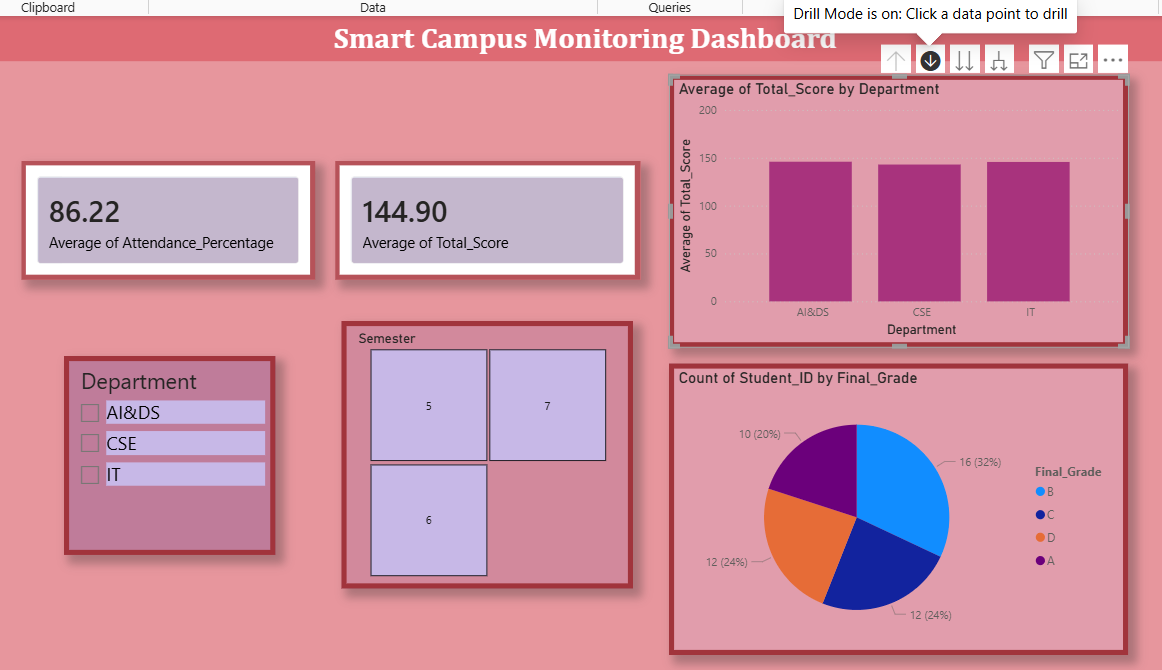

The page's visual inventory and layout, read from the dashboard file:
{"tool":"powerbi","page":{"name":"Page 1","canvas":[1280,720],"ordinal":0},"visuals":[{"type":"textbox","box":[0,0,1280.3,49.4],"z":0},{"type":"cardVisual","fields":{"Data":["Avg(5 student_performance.Attendance_Percentage)"]},"box":[24.7,159.2,322.5,130.4],"z":1000},{"type":"cardVisual","fields":{"Data":["Avg(5 student_performance.Total_Score)"]},"box":[369.1,159.2,334.8,130.4],"z":2000},{"type":"slicer","fields":{"Values":["5 student_performance.Department"]},"box":[71.7,373.3,231.7,218.3],"z":3000},{"type":"slicer","fields":{"Values":["5 student_performance.Semester"]},"box":[376.7,335,320,293.3],"z":4000},{"type":"clusteredColumnChart","fields":{"Y":["Avg(5 student_performance.Total_Score)"],"Category":["5 student_performance.Department","5 student_performance.Semester","5 student_performance.Subject"]},"box":[735.9,63.9,504.3,299.2],"z":5000},{"type":"pieChart","fields":{"Category":["5 student_performance.Final_Grade"],"Y":["CountNonNull(5 student_performance.Student_ID)"]},"box":[735.9,381.2,504.3,319.7],"z":6000}]}

Visuals, with their boxes in screenshot pixels (x1, y1, x2, y2):
textbox: x1=9, y1=12, x2=1155, y2=56
cardVisual - Avg(5 student_performance.Attendance_Percentage): x1=31, y1=155, x2=320, y2=271
cardVisual - Avg(5 student_performance.Total_Score): x1=340, y1=155, x2=639, y2=271
slicer - 5 student_performance.Department: x1=73, y1=346, x2=281, y2=542
slicer - 5 student_performance.Semester: x1=346, y1=312, x2=633, y2=575
clusteredColumnChart - Avg(5 student_performance.Total_Score) x 5 student_performance.Department: x1=668, y1=69, x2=1119, y2=337
pieChart - 5 student_performance.Final_Grade x CountNonNull(5 student_performance.Student_ID): x1=668, y1=353, x2=1119, y2=640
